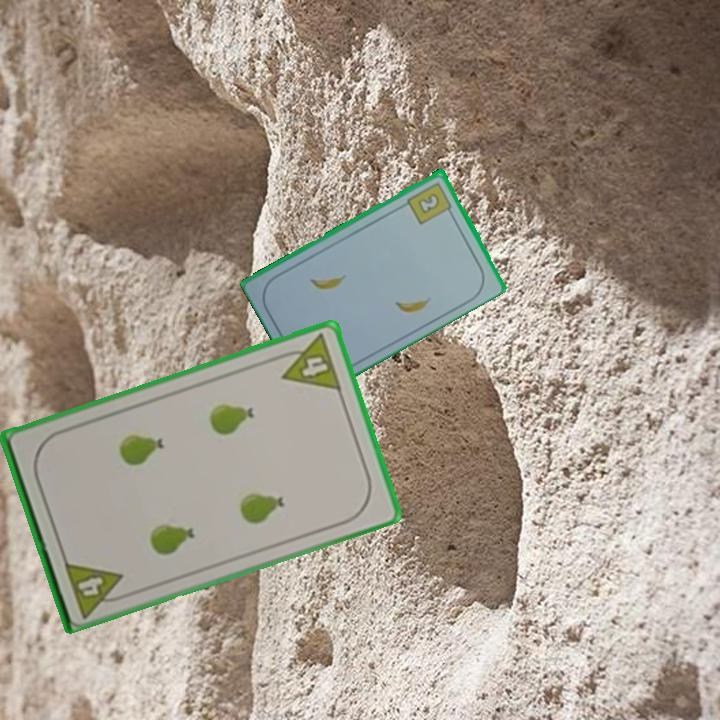2b: (404, 178, 456, 227)
4p: (272, 330, 345, 393), (60, 556, 131, 620)
